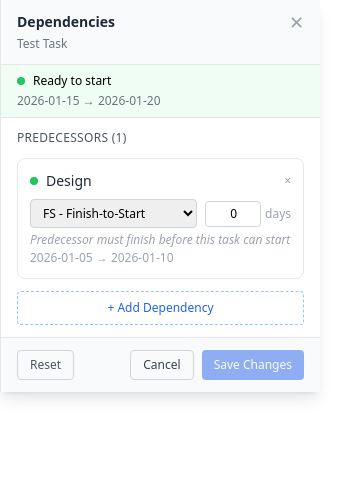
Test: DependencyDrawer › shows impact preview when dependencies change
Modify the lag to create a change that triggers impact
Replace the text in the number field titled "Lag days (negative = lead)" with "3" at (233, 214), box [205, 200, 261, 226]
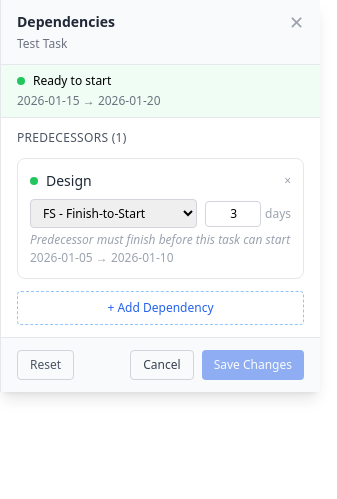
Leave the number field titled "Lag days (negative = lead)", box [205, 200, 261, 226]
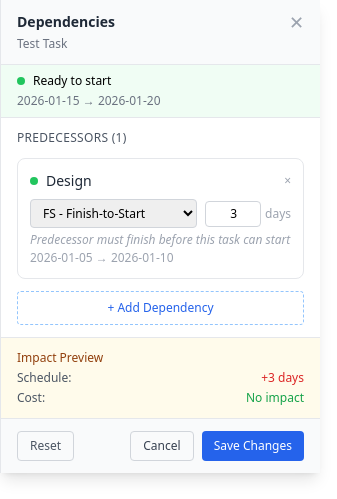
Check: the text "Impact Preview" is shown, box [17, 349, 103, 366]
